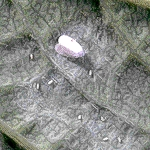whitefly: (54, 33, 88, 60)
